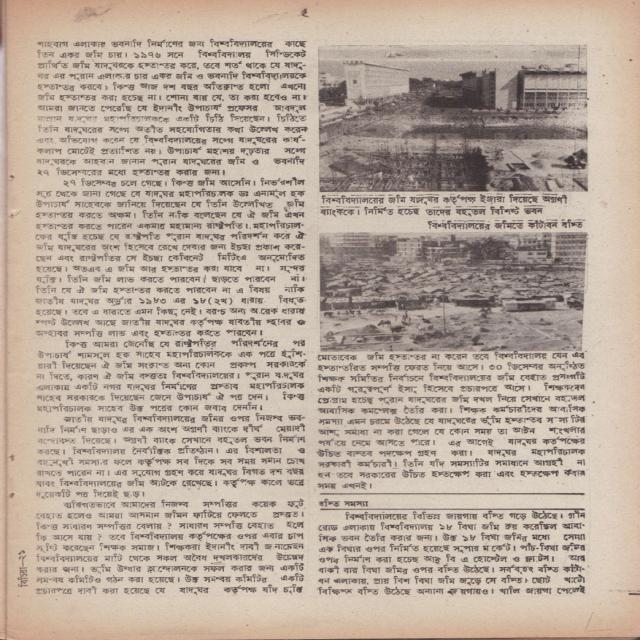caption: (317, 193, 569, 218), (423, 219, 586, 231)
image: (319, 46, 588, 192), (321, 234, 583, 350)
page number: (18, 550, 27, 560)
paragraph: (31, 175, 308, 338), (31, 37, 312, 178), (313, 351, 588, 493), (32, 497, 307, 599), (33, 411, 309, 500), (314, 509, 588, 597), (35, 337, 309, 414)
text: (17, 567, 28, 587)
title: (314, 497, 372, 509)
